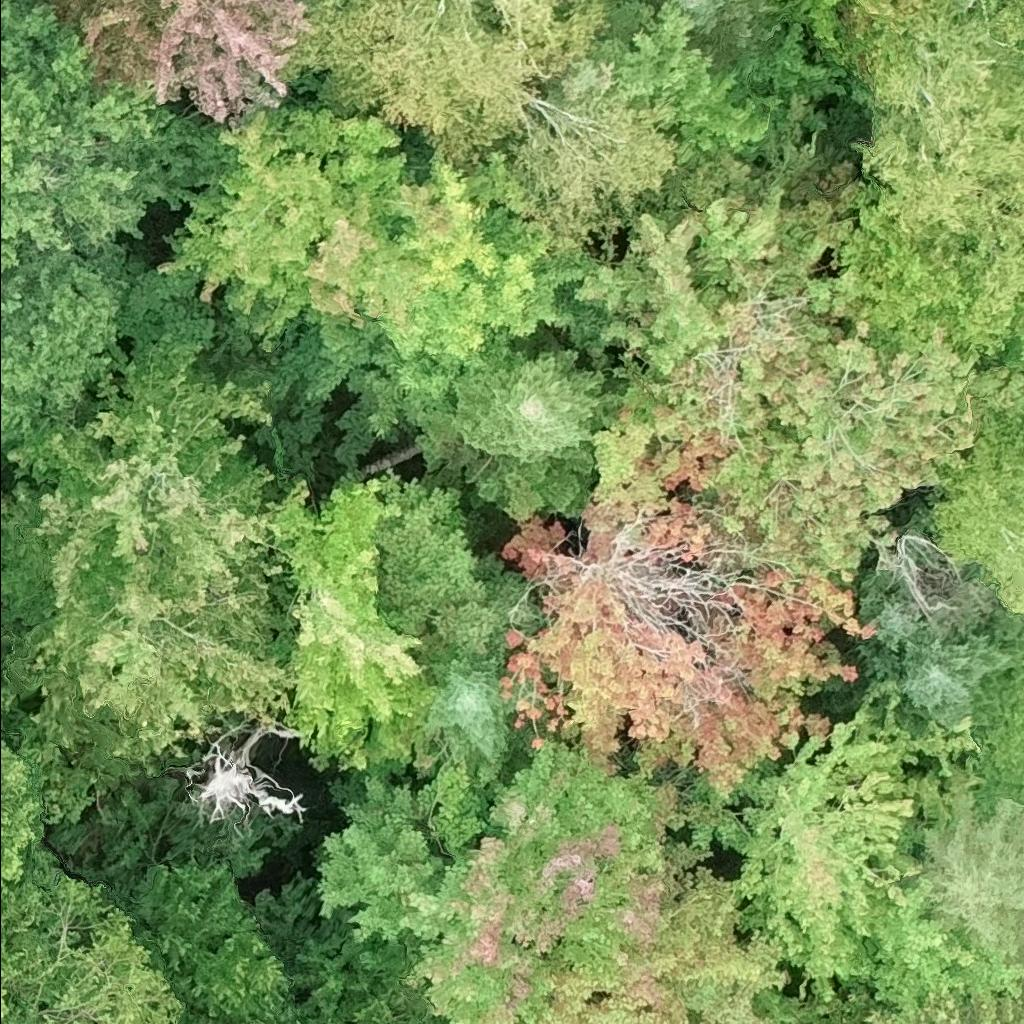crown: (571, 151, 983, 590), (0, 332, 312, 823), (499, 507, 878, 801), (397, 740, 790, 1023), (305, 147, 625, 473), (0, 0, 225, 448), (158, 99, 509, 351), (734, 692, 987, 1002), (851, 0, 1023, 327), (273, 469, 439, 776), (282, 0, 549, 177), (118, 856, 396, 1023), (490, 54, 685, 260), (446, 323, 625, 522), (311, 755, 489, 946), (52, 0, 315, 128), (591, 0, 775, 174), (567, 400, 733, 578), (0, 867, 184, 1023), (834, 222, 1022, 372), (930, 359, 1023, 614), (866, 877, 1023, 1011), (917, 786, 1023, 967), (422, 633, 536, 787), (182, 712, 311, 826), (899, 628, 1014, 733), (479, 0, 612, 79), (670, 0, 794, 72), (852, 582, 933, 681), (0, 716, 40, 902), (793, 0, 876, 65), (861, 991, 1023, 1023), (849, 0, 923, 41), (988, 0, 1023, 52), (1015, 310, 1023, 364), (1022, 987, 1023, 992)
